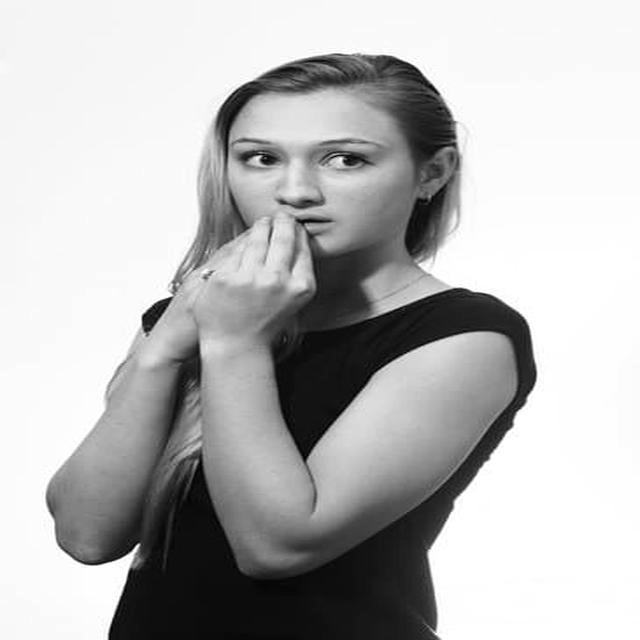Fear: (227, 95, 407, 261)
